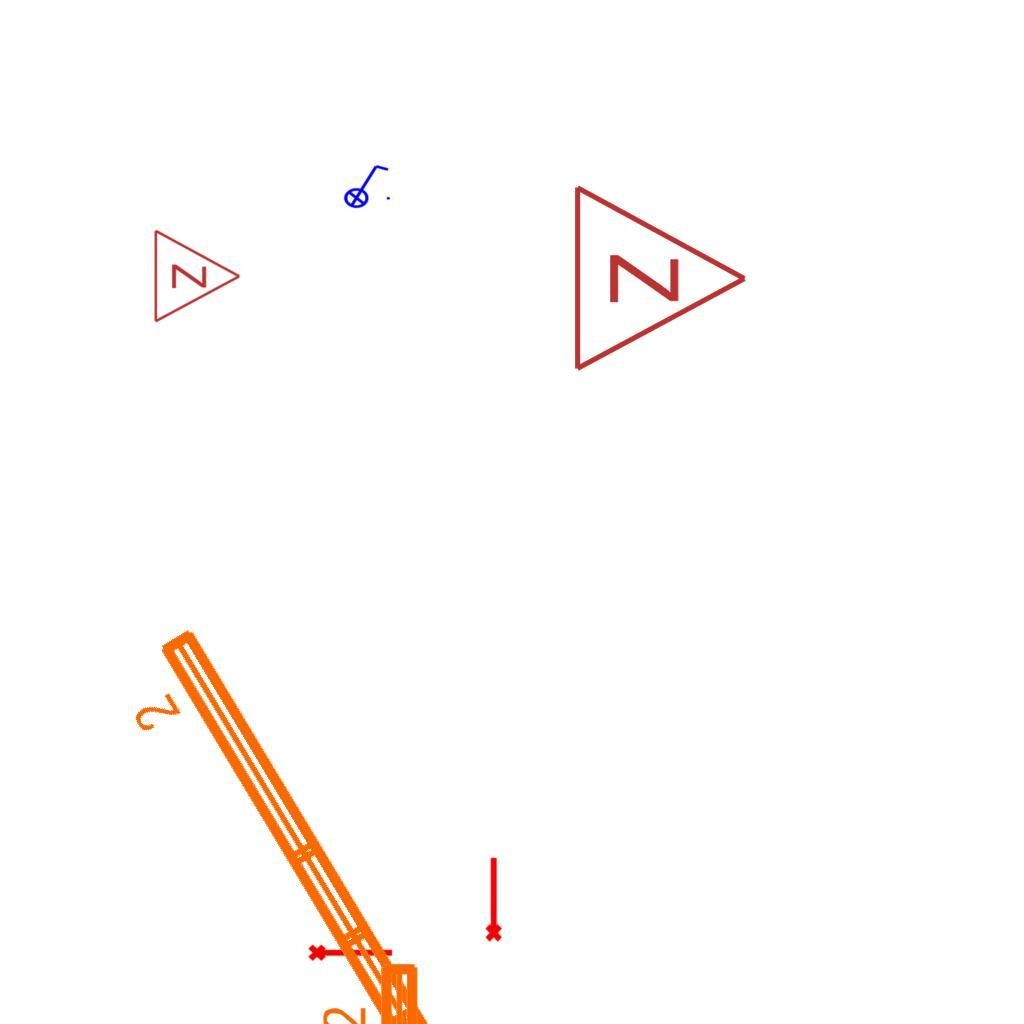ASR_Ansaugoeffnung: (307, 940, 395, 963), (481, 855, 504, 943)
Ambulanz_Pendelleuchte_LED: (100, 614, 596, 1024), (318, 955, 430, 1024)
Ausschalter_beleuchtet: (337, 161, 393, 209)
Zimmersignalleuchte: (560, 178, 760, 374), (147, 226, 247, 324)
